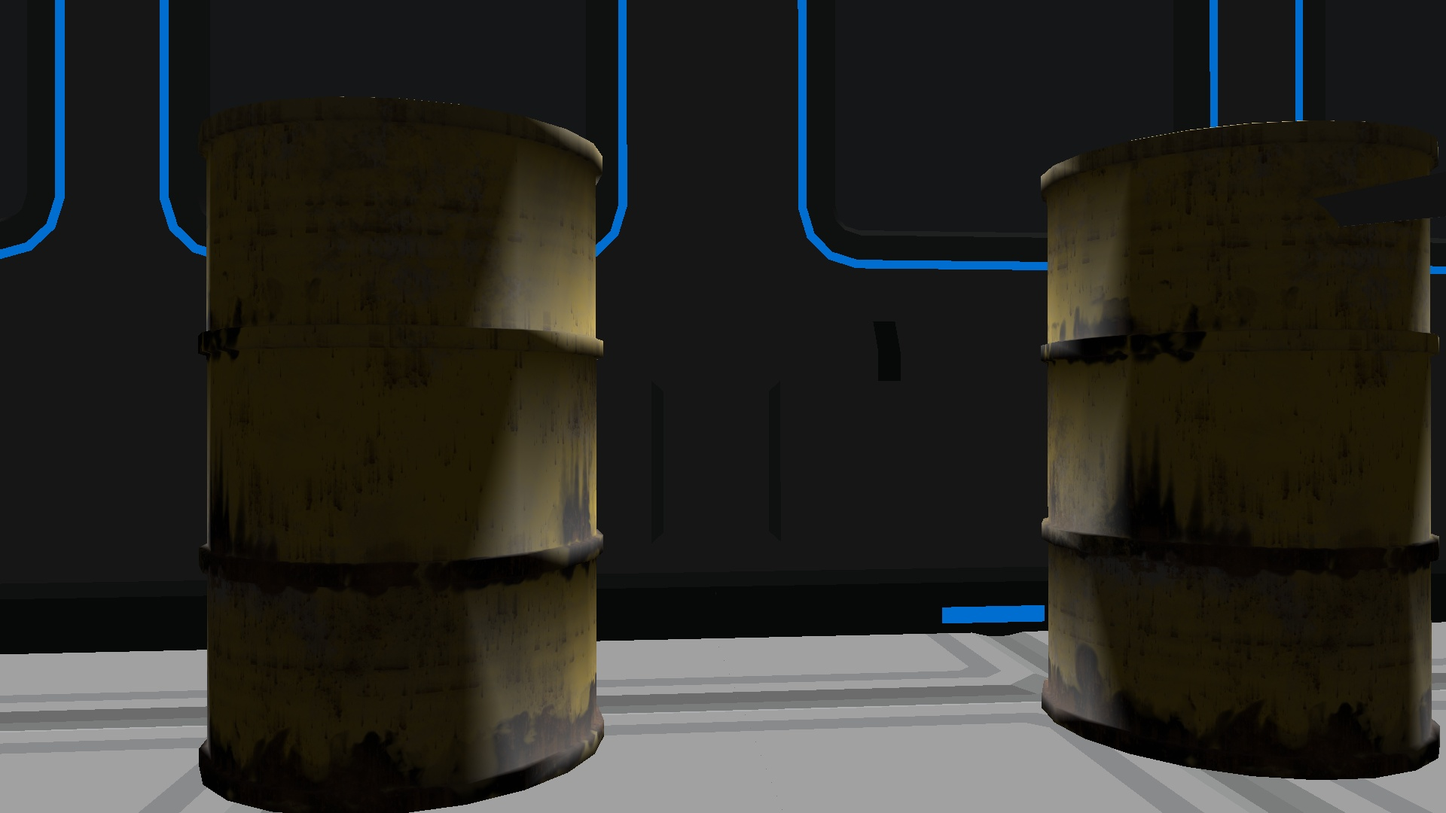toxic barrel: (196, 94, 604, 813), (1037, 122, 1439, 779)
